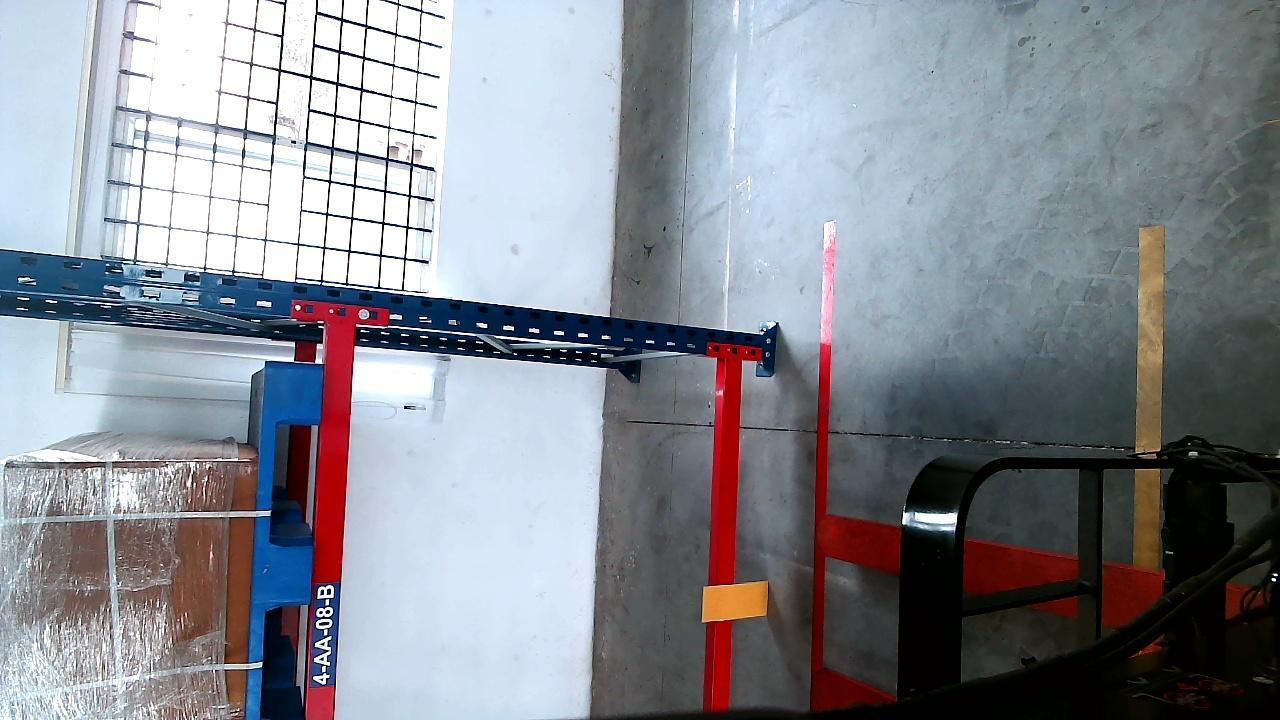h_rack: (308, 323, 352, 720), (710, 359, 742, 706)
orange_strip: (704, 581, 770, 621)
red_line: (807, 213, 839, 720)
small_pallet: (247, 360, 320, 716)
yellow_line: (1134, 222, 1166, 578)
